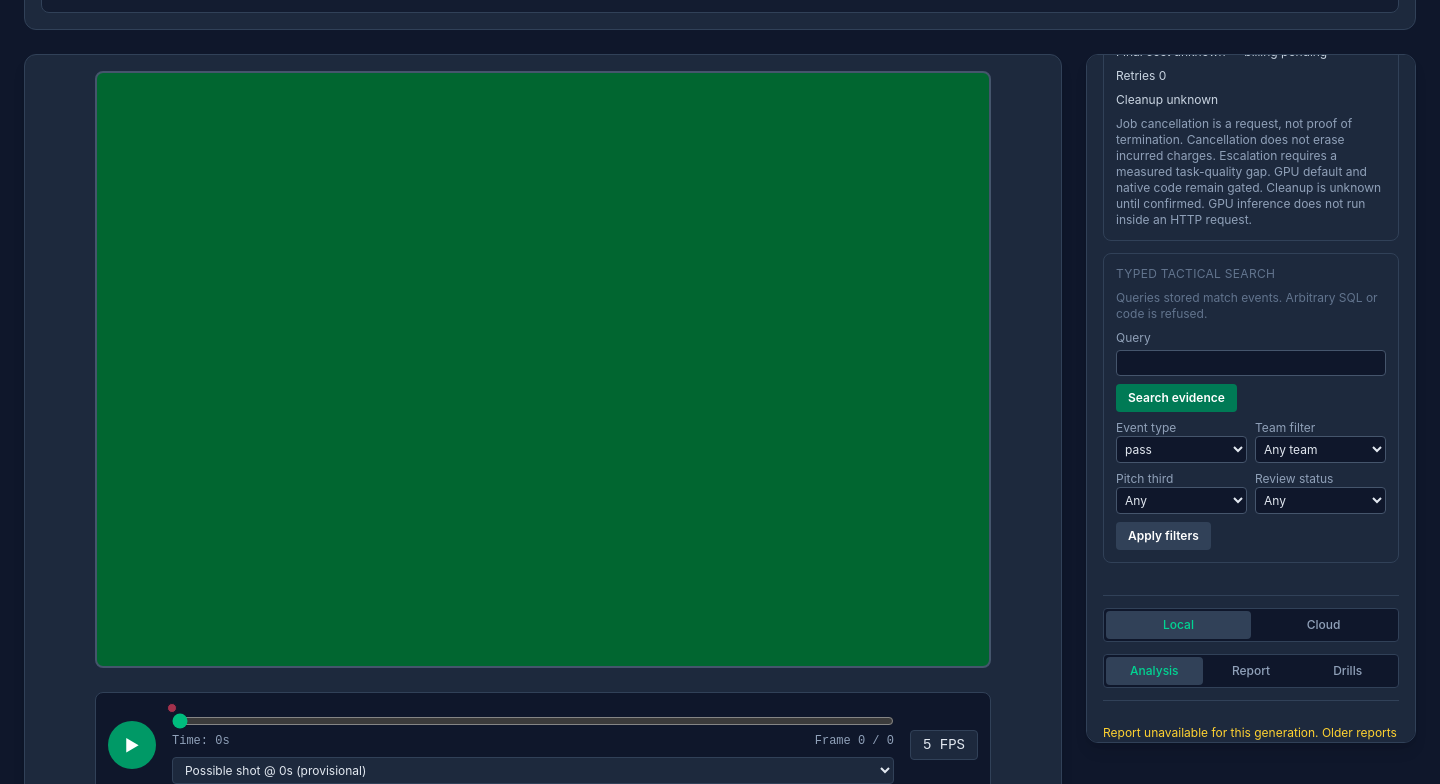
Scenario: App match workspace loading › opens a source-linked visual event proposal in review without auto-accepting it
(page scrolled)
Click the button "Search evidence": (1176, 398) [1116,384,1237,412]
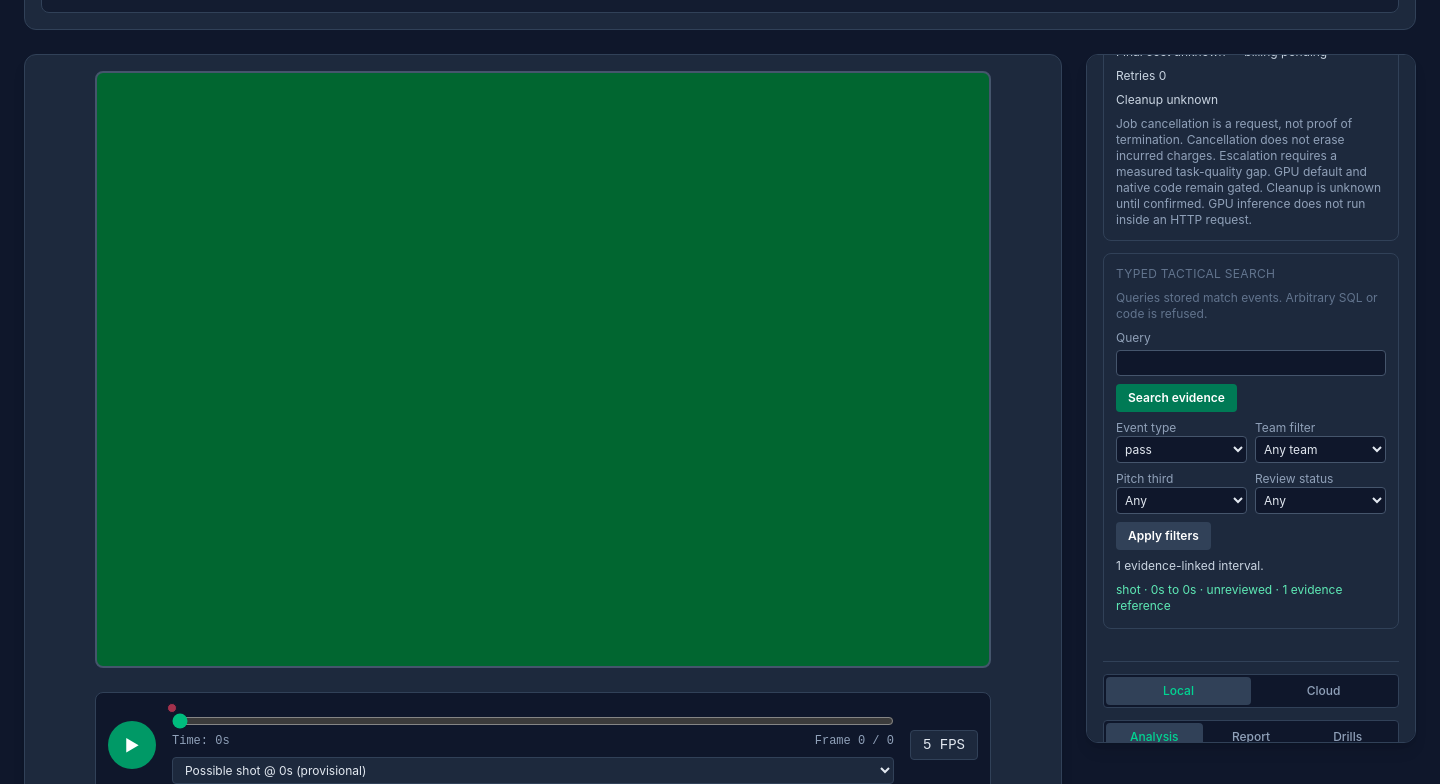
Click the button "shot · 0s to 0s · unreviewed · 1 evidence reference": (1251, 598) [1116,582,1386,614]
(page scrolled)
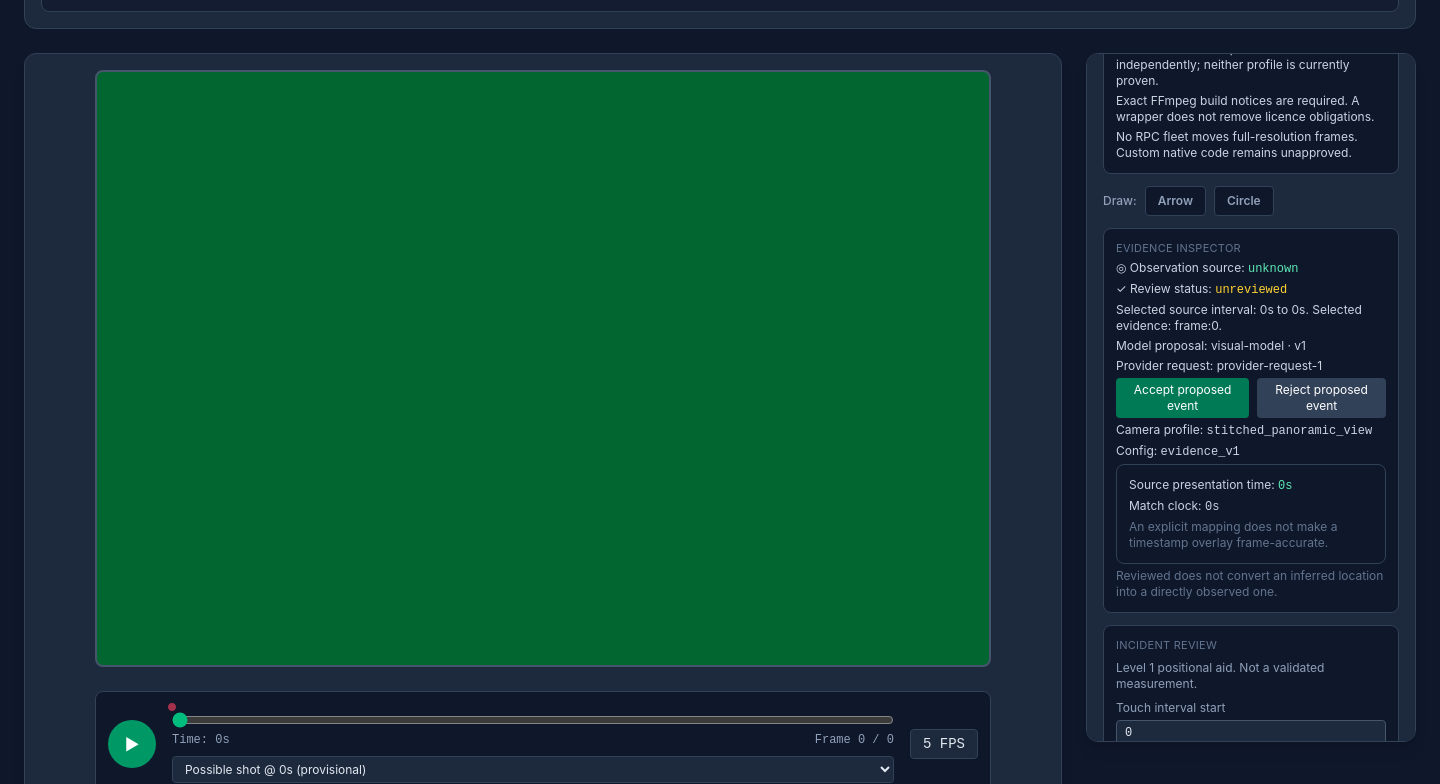
Expected: the text "Model proposal: visual-model · v1" is shown, [1116,338,1306,353]
Expected: the text "frame:0" is shown, [1174,318,1218,333]
Click the button "Accept proposed event": (1183, 398) [1116,378,1249,418]
(page scrolled)
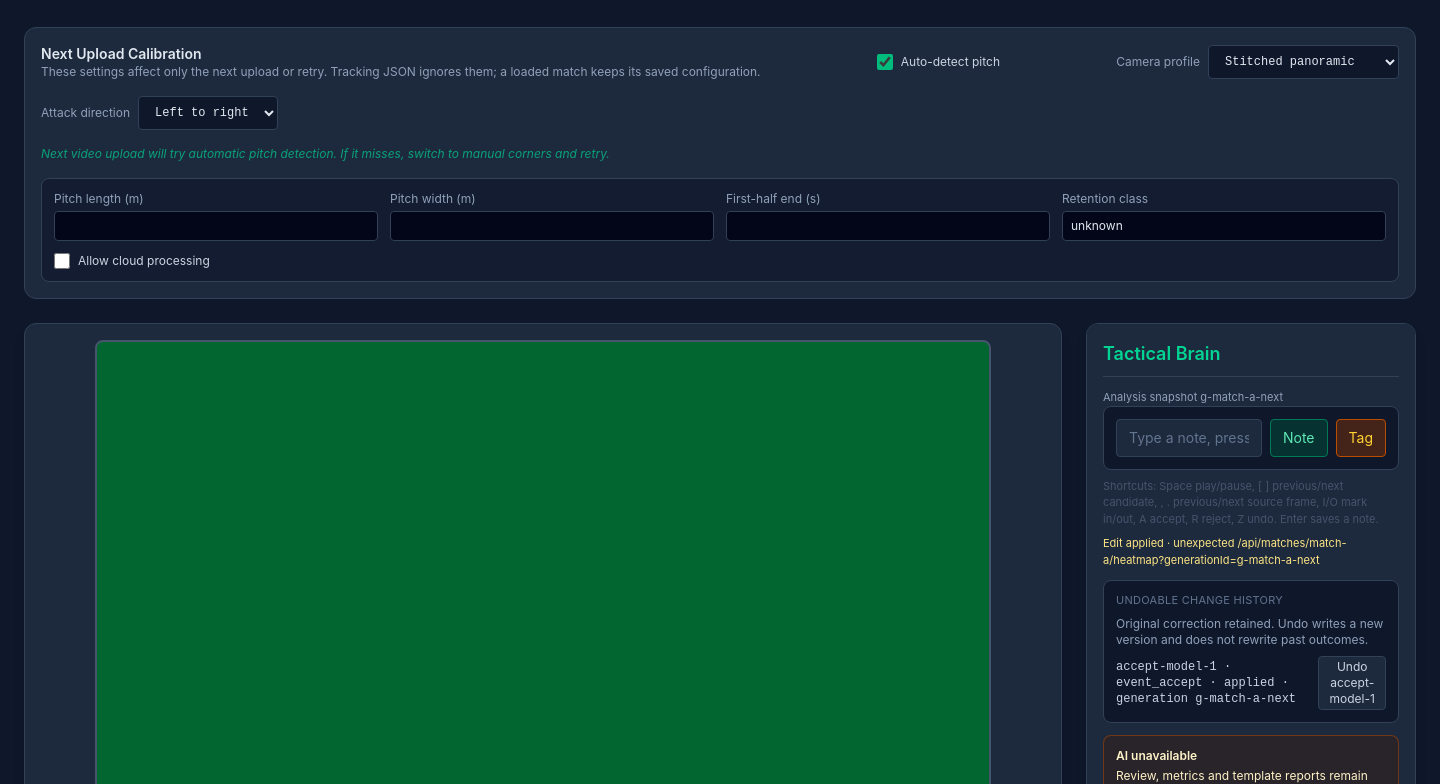
Expected: the text with test id "analysis-generation" shows "g-match-a-next", [1200,390,1283,404]
Expected: the button "Accept proposed event" is gone
